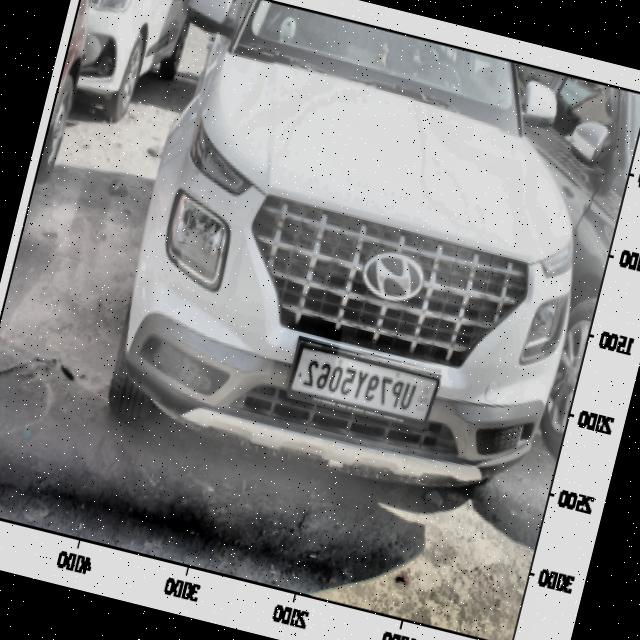license_plate: (296, 349, 424, 422)
